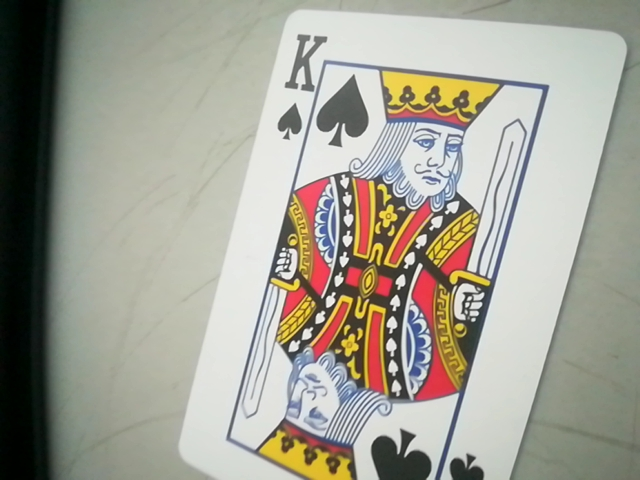ht k: (268, 21, 328, 151)
